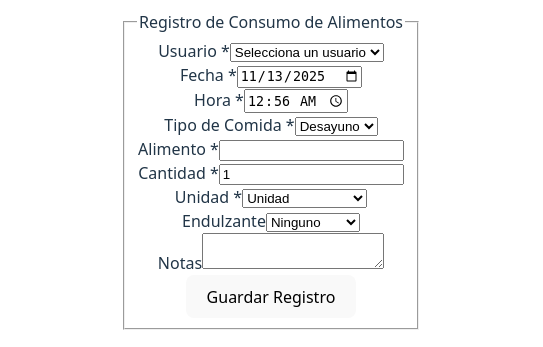
Test: RegistrationForm - Validation › shows validation error for invalid amount (zero)
Replace the text in the number field labelled "Cantidad *" with "0" at [311, 174], box left=219, top=164, right=404, bottom=185
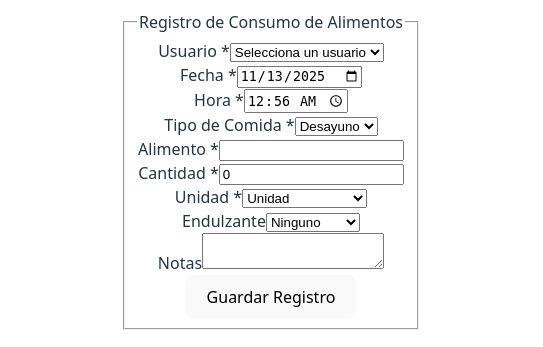
Click the button "Guardar Registro" at [271, 297], box left=186, top=275, right=356, bottom=318
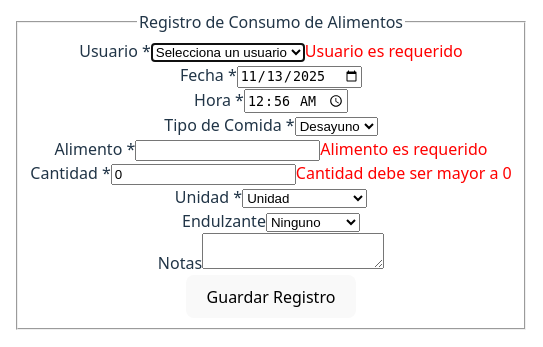
Now the text "Cantidad debe ser mayor a 0" is shown, box left=296, top=162, right=512, bottom=184
